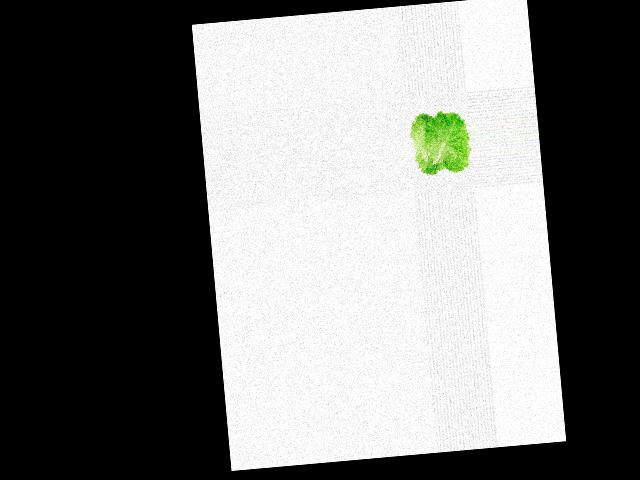lettuce: (406, 104, 474, 180)
